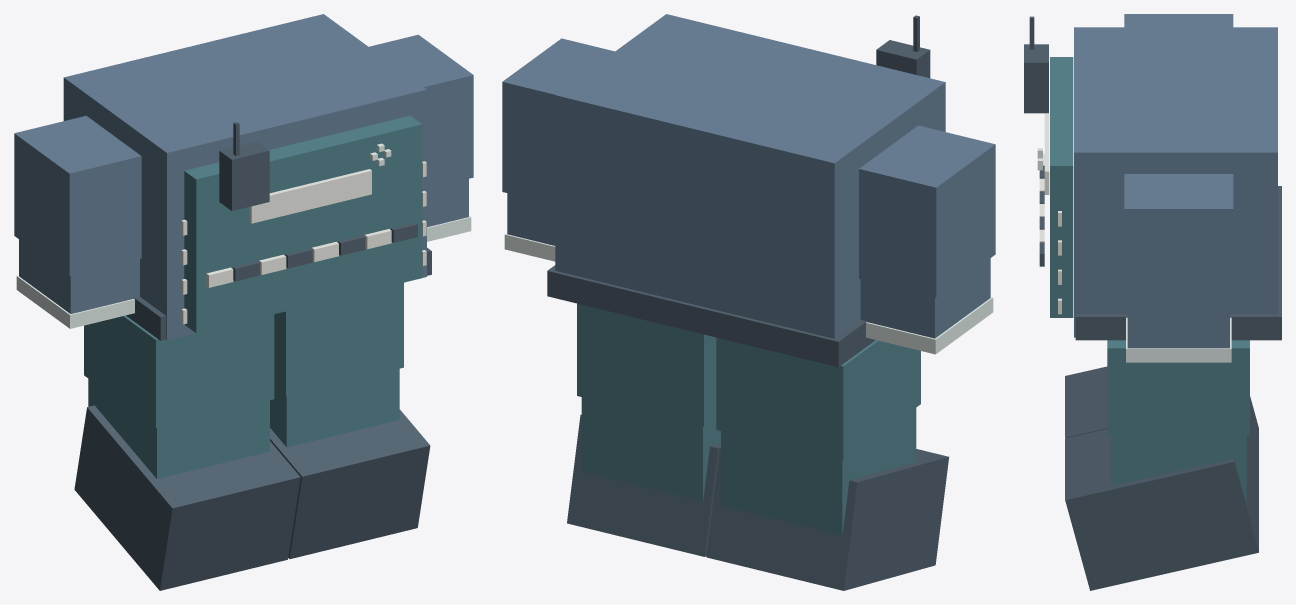
Rendered from police-teal.glb.
The picture shows the model from 3 angles, left to right: view 1: azimuth 30°, elevation 25°; view 2: azimuth 150°, elevation 25°; view 3: azimuth 270°, elevation 25°; orthographic projection. The views are drawn at different scales.
Parts seen in each view (by area): view 1: jacket, duty-vest, shoe-Right, upper-sleeve-Right, trouser-Right, shoe-Left, trouser-Left, lower-trouser-Right, upper-sleeve-Left, lower-trouser-Left, lower-sleeve-Right, vest-label (+5 smaller); view 2: jacket, upper-sleeve-Right, shoe-Right, trouser-Right, trouser-Left, lower-trouser-Right, lower-trouser-Left, duty-belt, upper-sleeve-Left, shoe-Left, lower-sleeve-Right, cuff-Right (+3 smaller); view 3: jacket, shoe-Left, upper-sleeve-Left, trouser-Left, duty-vest, lower-trouser-Left, lower-sleeve-Left, shoe-Right, duty-belt, radio, cuff-Left, upper-sleeve-Right (+1 smaller).
Boxes of the visible parts, box(x1,y1,x2,y2) form: jacket: box(63, 14, 426, 340); duty-vest: box(184, 115, 422, 333); shoe-Right: box(74, 405, 300, 590); upper-sleeve-Right: box(14, 115, 141, 276); trouser-Right: box(84, 314, 274, 427); shoe-Left: box(270, 409, 430, 558); trouser-Left: box(274, 282, 403, 396); lower-trouser-Right: box(88, 379, 269, 478); upper-sleeve-Left: box(369, 34, 473, 188); lower-trouser-Left: box(270, 368, 399, 447); lower-sleeve-Right: box(19, 239, 139, 313); vest-label: box(249, 169, 371, 223); jacket: box(555, 14, 945, 338); upper-sleeve-Right: box(859, 125, 995, 297); shoe-Right: box(706, 448, 948, 590); trouser-Right: box(716, 337, 920, 460); trouser-Left: box(577, 303, 716, 426); lower-trouser-Right: box(721, 408, 916, 534); lower-trouser-Left: box(581, 397, 720, 501); duty-belt: box(547, 265, 875, 367); upper-sleeve-Left: box(502, 38, 614, 204); shoe-Left: box(567, 414, 720, 556); lower-sleeve-Right: box(860, 258, 990, 338); cuff-Right: box(866, 297, 993, 354); jacket: box(1074, 27, 1277, 337); shoe-Left: box(1065, 429, 1258, 590); upper-sleeve-Left: box(1124, 174, 1233, 309); trouser-Left: box(1107, 340, 1249, 435); duty-vest: box(1050, 57, 1073, 317); lower-trouser-Left: box(1111, 435, 1246, 503); lower-sleeve-Left: box(1127, 310, 1229, 348); shoe-Right: box(1065, 366, 1258, 489); duty-belt: box(1075, 186, 1281, 340); radio: box(1024, 44, 1048, 113); cuff-Left: box(1126, 317, 1231, 362); upper-sleeve-Right: box(1124, 14, 1233, 27).
Size of the model in its own units: 1.07 by 1.21 by 0.6.
